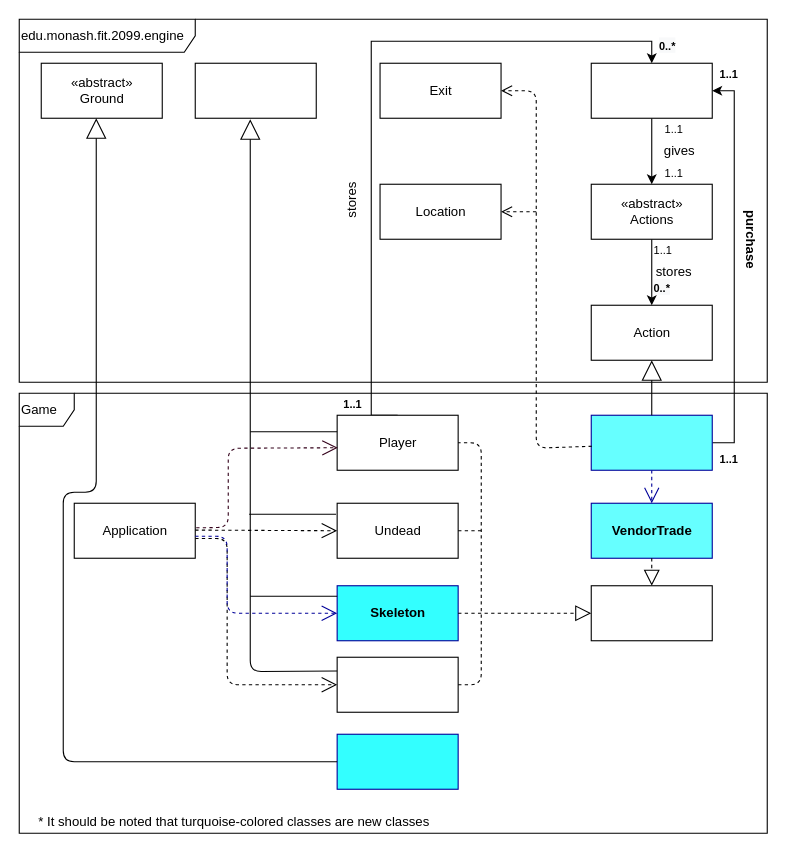
This 787x853 diagram has some shape labels left out. The centre of each missing label's shape, as x and y in pixels:
"LordOfCinder" goes at point (397, 684).
"TradeAction" goes at point (651, 442).
"Vendor" goes at point (397, 761).
"«abstract» Actor" goes at point (255, 90).
"«abstract» Item" goes at point (651, 90).
"«interface» Soul" goes at point (651, 613).
